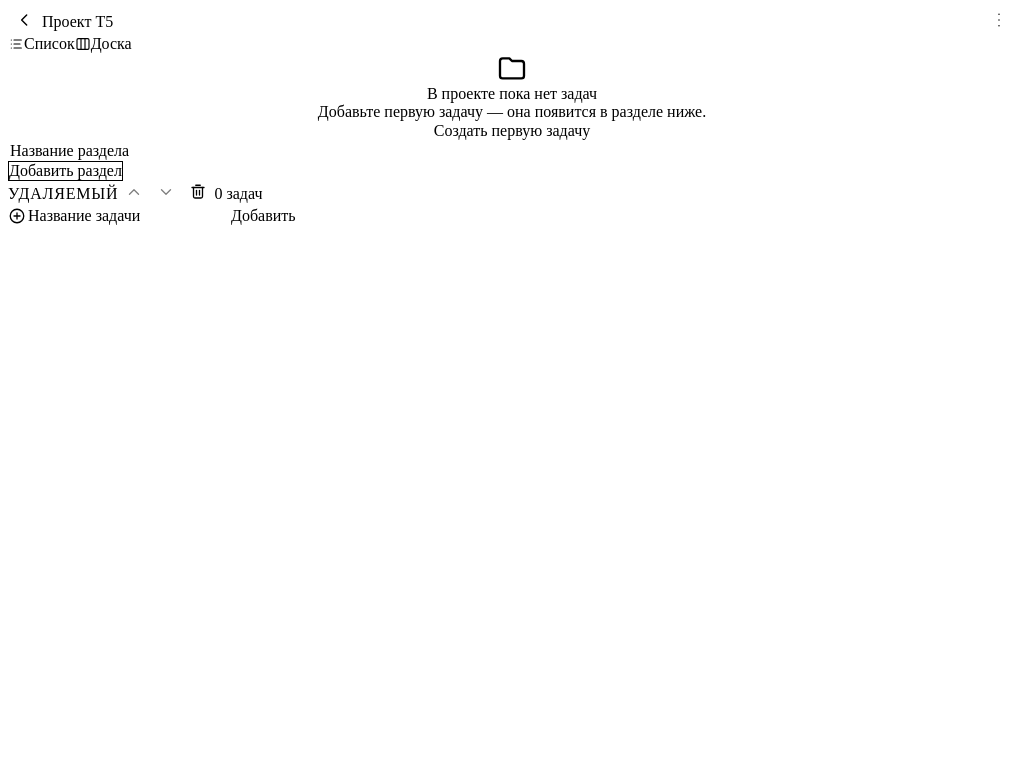
Test: ProjectDetail — CRUD секций (E09.4) › удаление раздела требует подтверждения — без подтверждения раздел остаётся
Later steps or results of the test are not shown.
Expected: the button "Удаляемый" is shown, [8, 184, 118, 202]
Click the button named "Удалить раздел «Удаляемый»".
click(198, 194)  # box [182, 181, 214, 206]
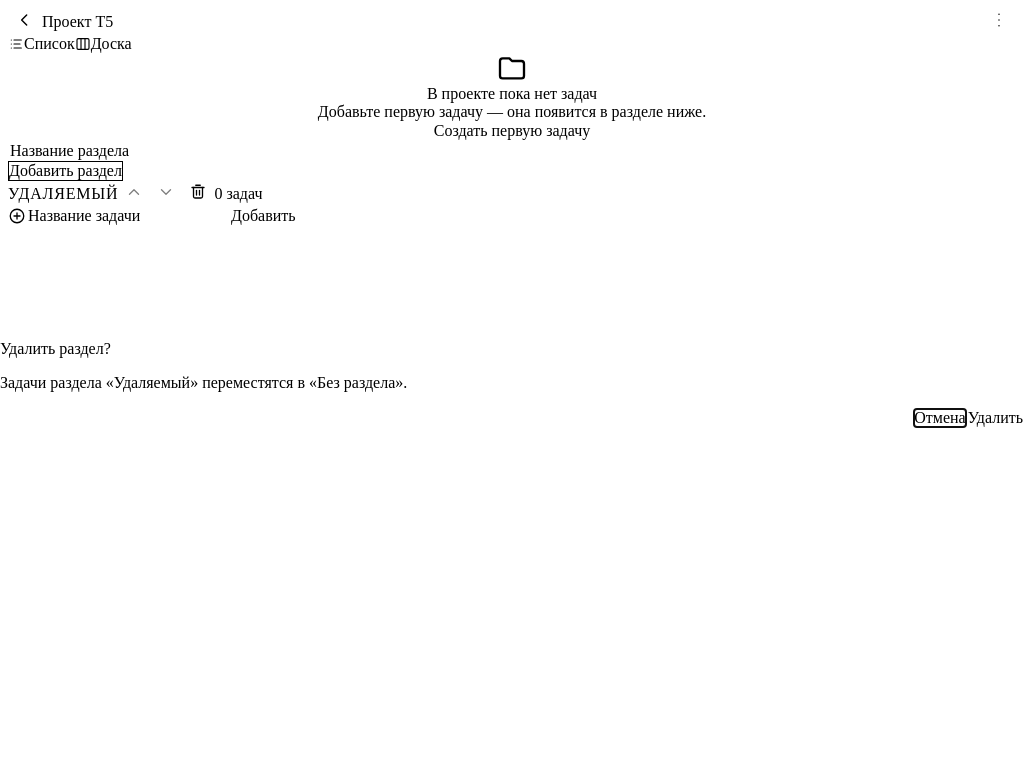
Expected: the dialog "Удалить раздел?" is shown, [0, 340, 1023, 428]
